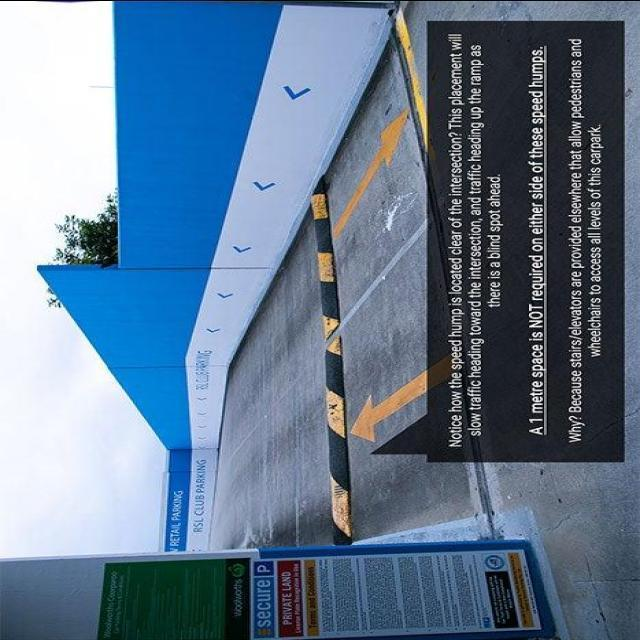speedbreaker: (284, 175, 378, 553)
